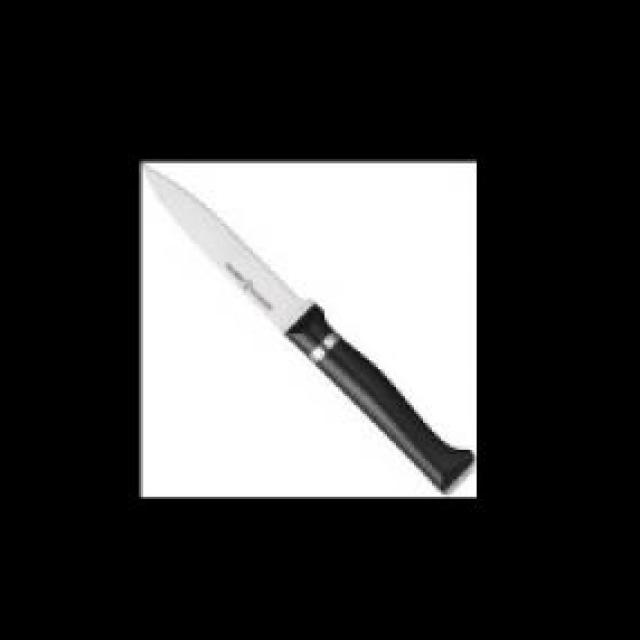knife: (142, 163, 472, 484)
